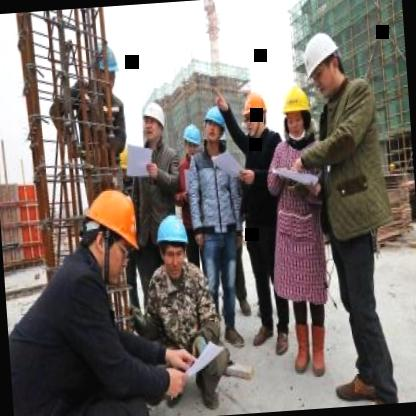helmet: (75, 183, 140, 276), (300, 25, 350, 99), (154, 211, 192, 277), (279, 78, 315, 144), (94, 32, 122, 98), (138, 94, 169, 152), (242, 88, 269, 138), (203, 104, 228, 148), (178, 118, 204, 158)
